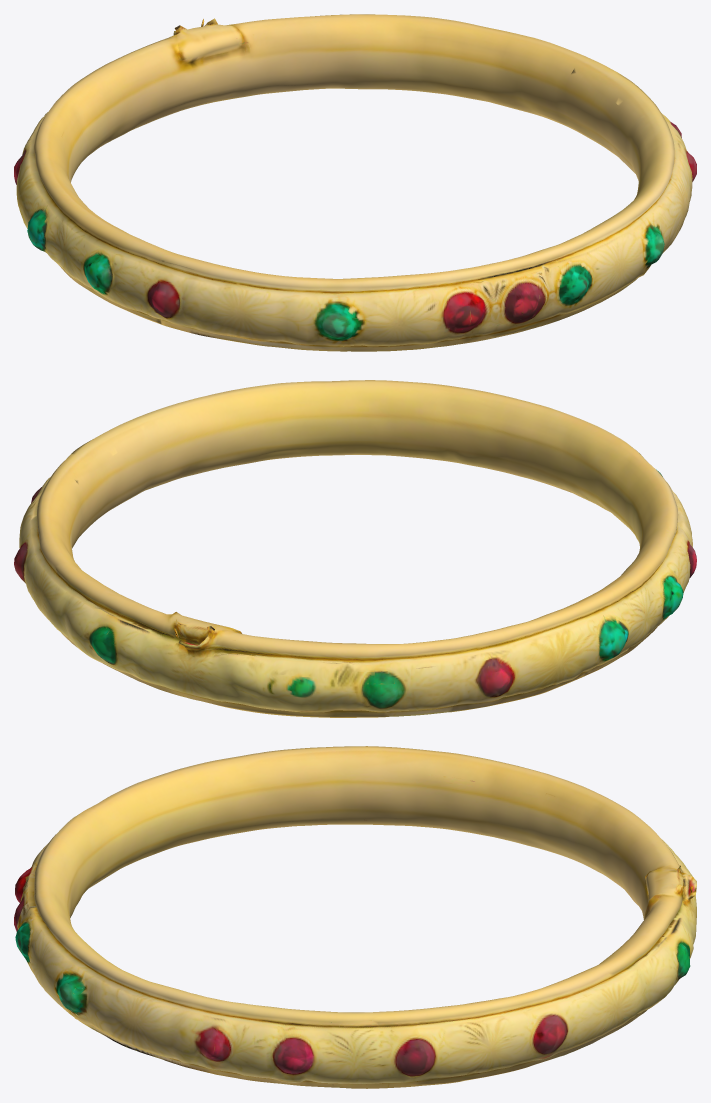
3 renders of one model, top to bottom at view 1: azimuth 30°, elevation 25°; view 2: azimuth 150°, elevation 25°; view 3: azimuth 270°, elevation 25°, orthographic.
Parts seen in each view (by area): view 1: Mesh_0; view 2: Mesh_0; view 3: Mesh_0.
Boxes of the visible parts, box(x1,y1,x2,y2) form: Mesh_0: box(14, 14, 696, 351); Mesh_0: box(14, 380, 696, 717); Mesh_0: box(14, 746, 696, 1088).
Size of the model in its own units: 2 by 0.2651 by 1.99.
Materials: 1 (1 with a texture image).
